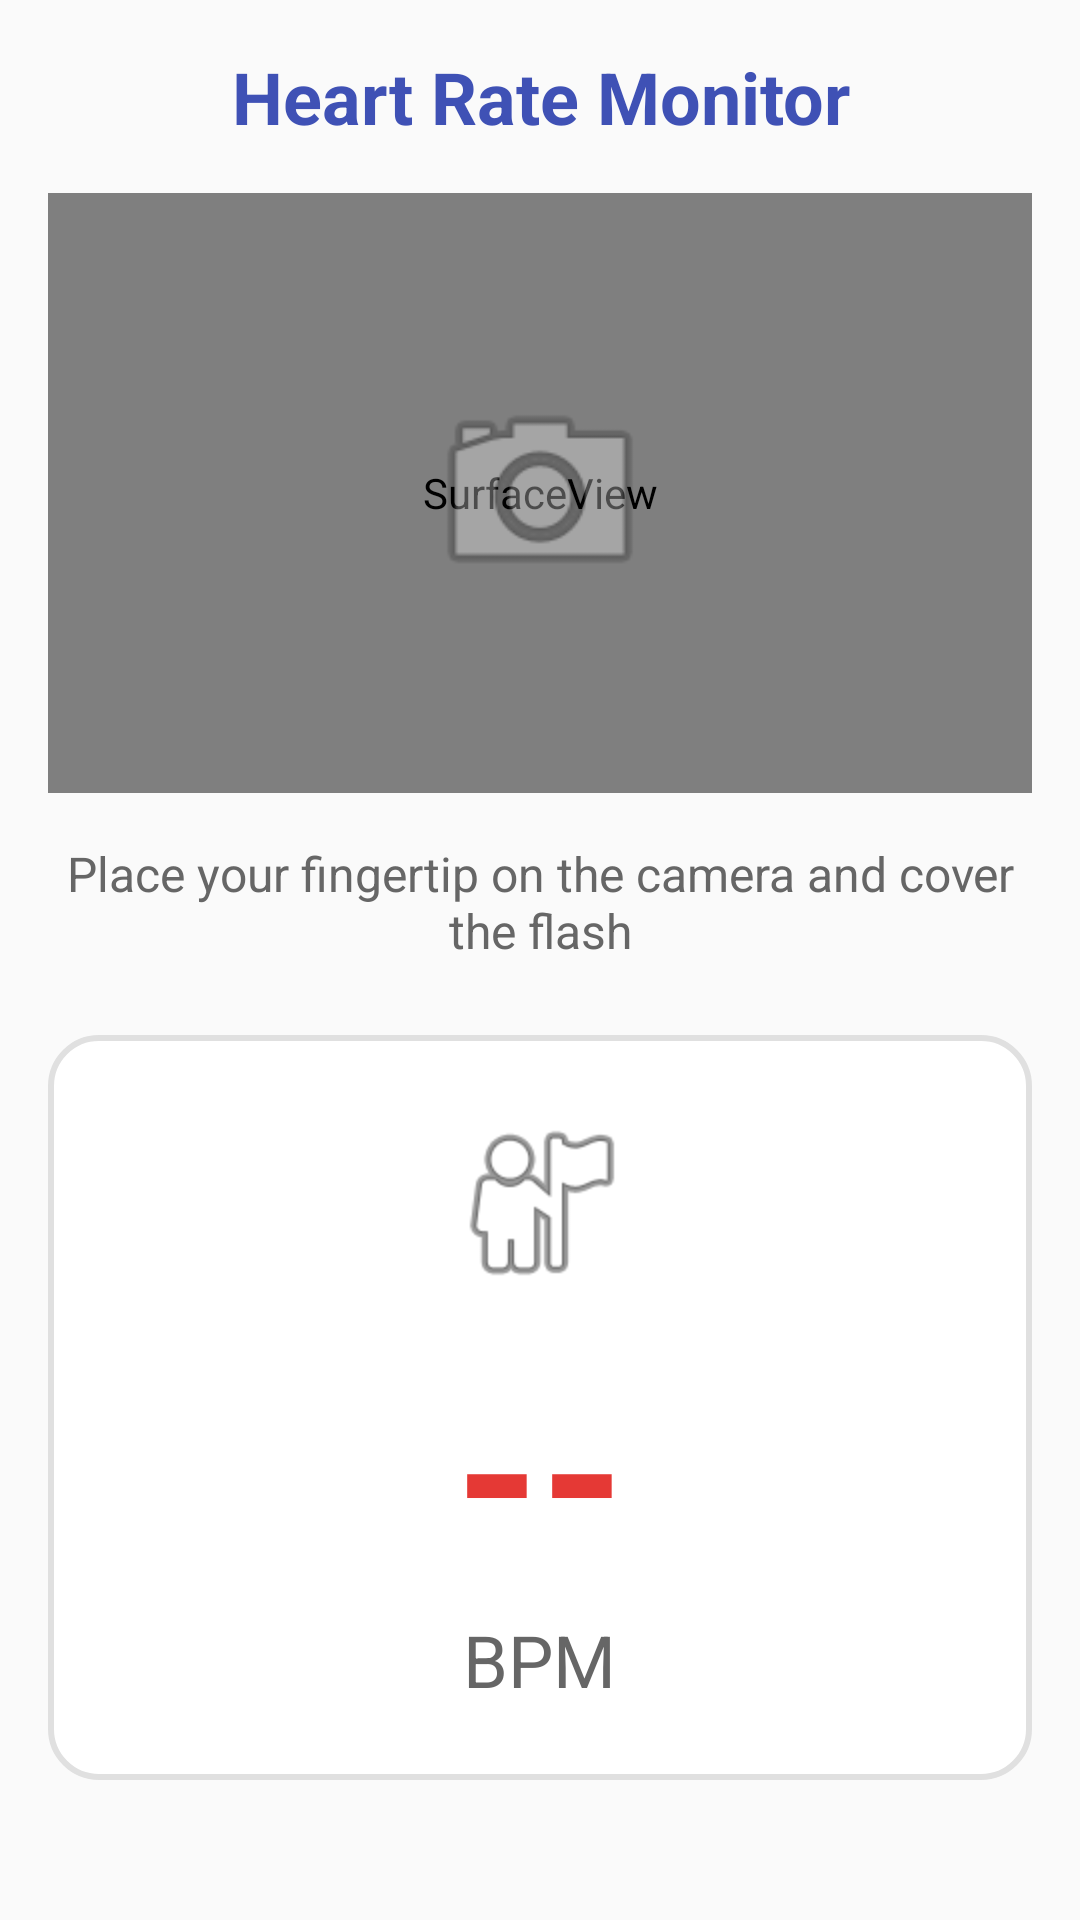

Screen size 1080 x 1920. Icon name, then its center in pixels as point (x, y):
camera: point (541, 489)
myplaces: point (542, 1203)
